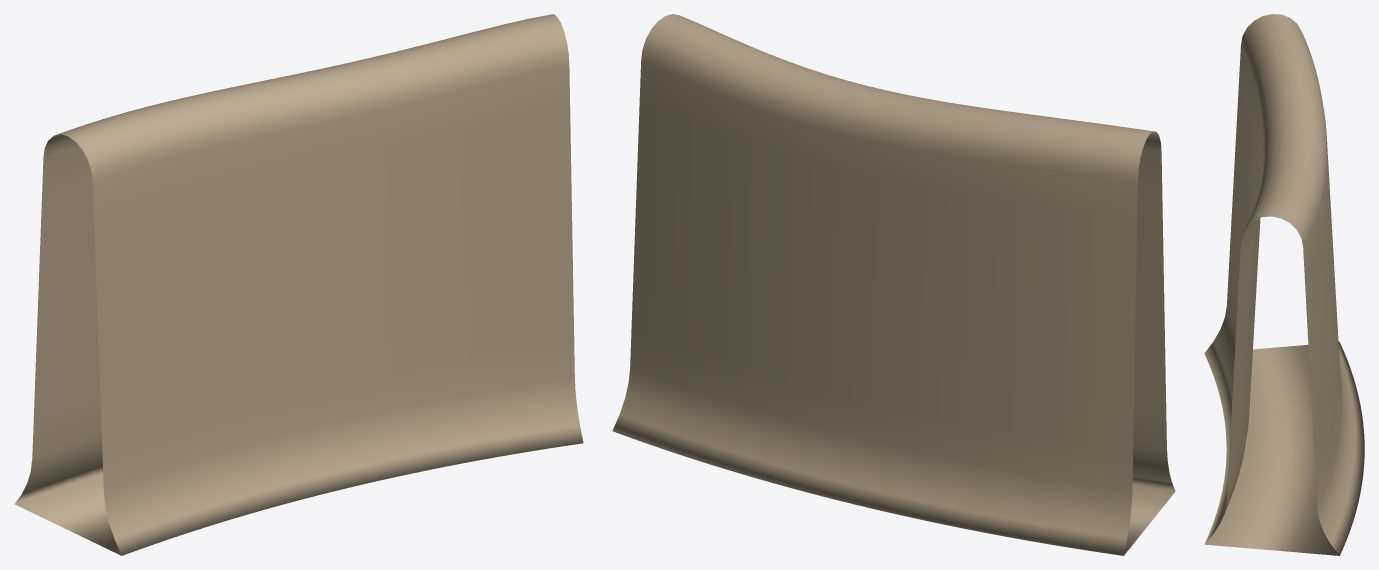
Rendered from KFB_Wall_curved_ring_r3.r4.glb.
3 views of the same model, side by side, from view 1: azimuth 30°, elevation 25°; view 2: azimuth 150°, elevation 25°; view 3: azimuth 270°, elevation 25° (orthographic). The views are drawn at different scales.
Parts seen in each view (by area): view 1: KFB_Wall_curved_ring_r3; view 2: KFB_Wall_curved_ring_r3; view 3: KFB_Wall_curved_ring_r3.
Boxes of the visible parts, <box> form: KFB_Wall_curved_ring_r3: <box>14,14,583,555</box>; KFB_Wall_curved_ring_r3: <box>612,14,1175,555</box>; KFB_Wall_curved_ring_r3: <box>1204,14,1364,555</box>.
Size of the model in its own units: 4.95 by 3.6 by 1.57.
